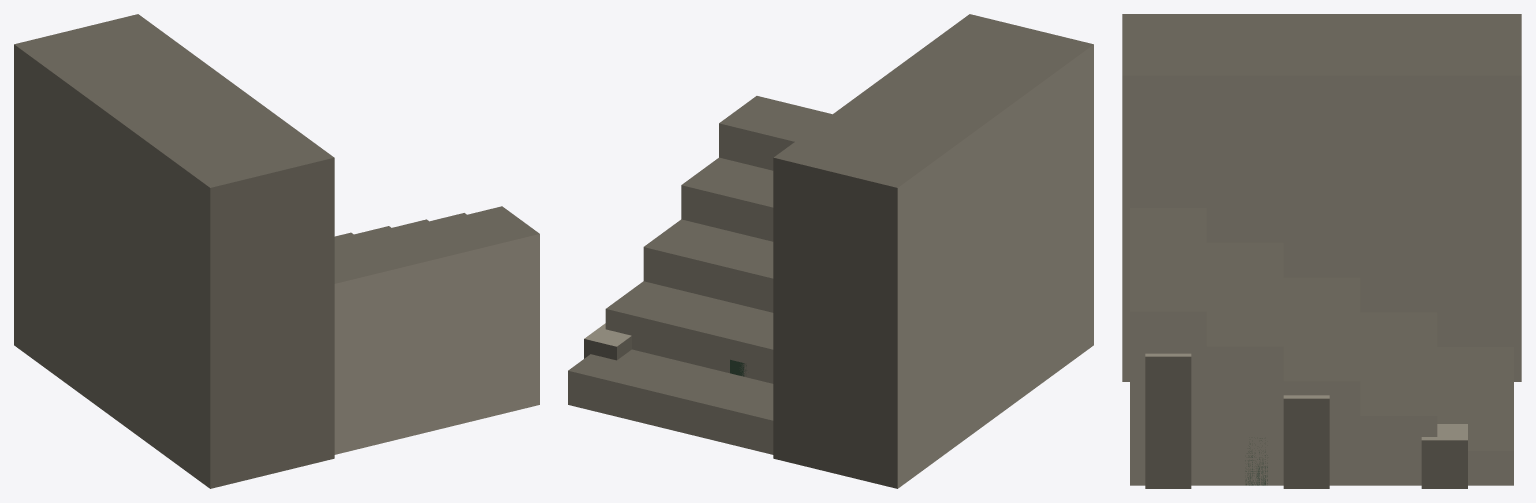
File: terr_mountainpath.glb
3 renders of one model, left to right at view 1: azimuth 30°, elevation 25°; view 2: azimuth 150°, elevation 25°; view 3: azimuth 270°, elevation 25°, orthographic.
Visible parts, largest first — view 1: terr_mountainpath; view 2: terr_mountainpath; view 3: terr_mountainpath.
Boxes of the visible parts, x1,y1,x2,y2 form: terr_mountainpath: (14, 14, 539, 488); terr_mountainpath: (568, 14, 1093, 488); terr_mountainpath: (1122, 14, 1521, 488).
Bounding box in the file's own units: 1.04 × 0.88 × 1.04.
1 material, 1 textured.
